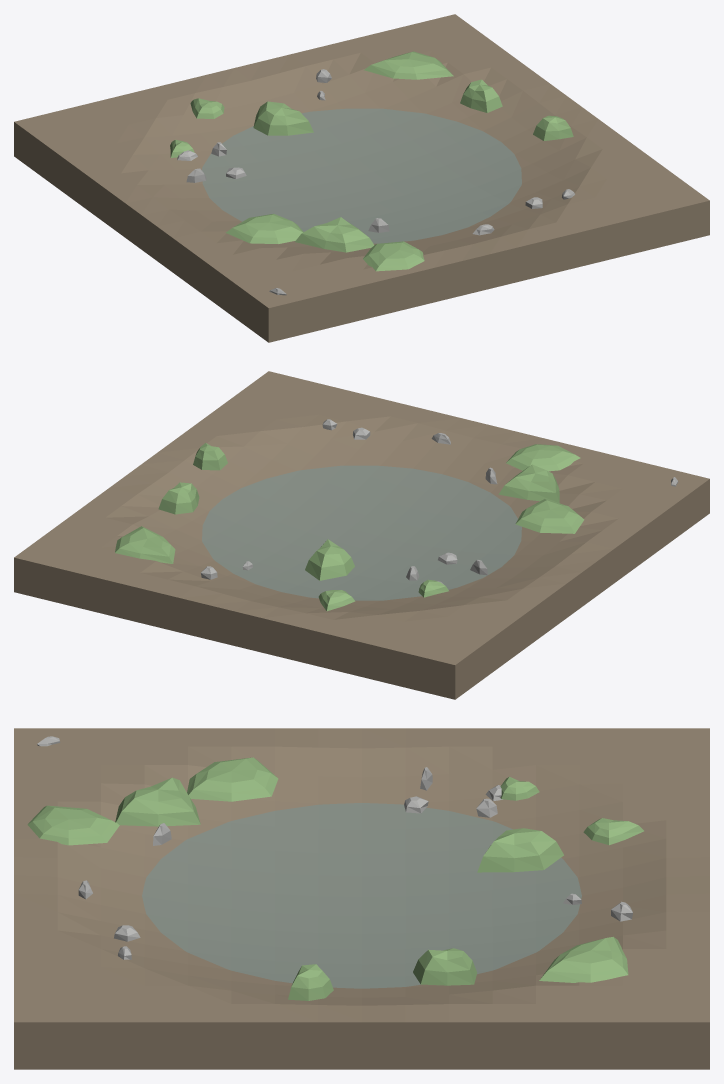
The model's file is dense-temperate-forest-flora-small-pond-ae0a3007__28434.glb.
3 views of the same model, one above another, from view 1: azimuth 30°, elevation 25°; view 2: azimuth 150°, elevation 25°; view 3: azimuth 270°, elevation 25° (orthographic). The views are drawn at different scales.
Parts seen in each view (by area): view 1: small-pond; view 2: small-pond; view 3: small-pond.
Boxes of the visible parts, x1,y1,x2,y2 form: small-pond: (14, 14, 709, 342); small-pond: (14, 371, 709, 699); small-pond: (14, 728, 709, 1069).
Bounding box in the file's own units: 4 × 0.4619 × 4.
